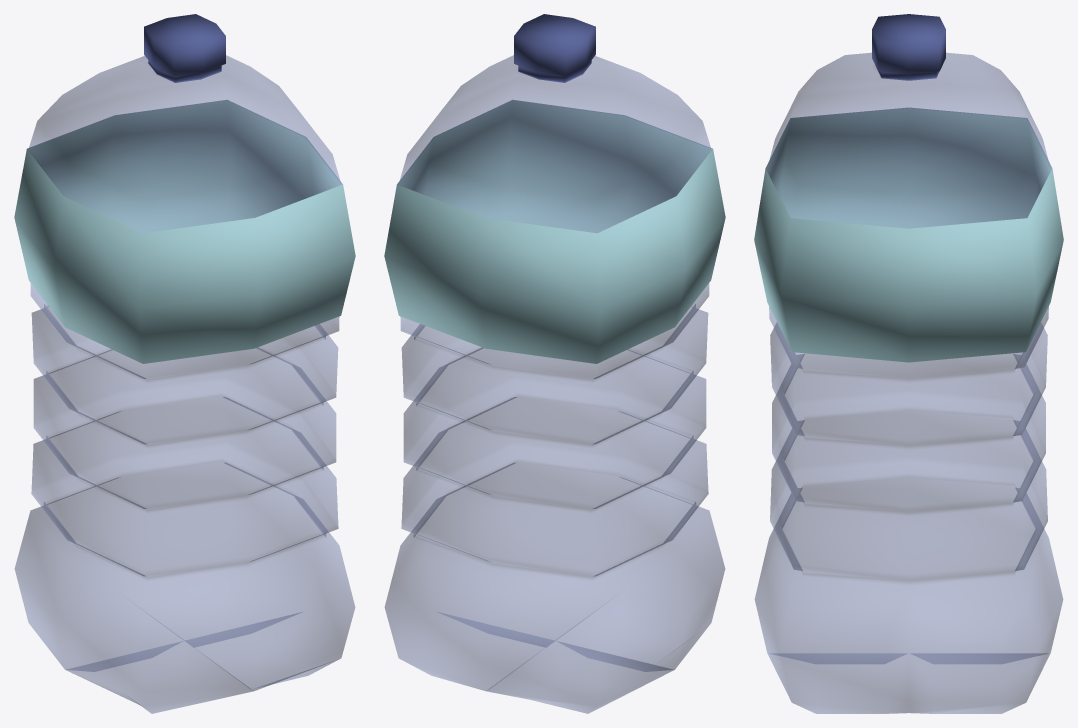
Rendered from bottle.glb.
The picture shows the model from 3 angles, left to right: view 1: azimuth 30°, elevation 25°; view 2: azimuth 150°, elevation 25°; view 3: azimuth 270°, elevation 25°; orthographic projection. The views are drawn at different scales.
Visible parts, largest first — view 1: big; view 2: big; view 3: big.
Part boxes in pixels (x1,y1,x2,y2): big: [14, 14, 355, 713]; big: [384, 14, 725, 713]; big: [754, 14, 1063, 713].
Size of the model in its own units: 2.04 by 4.69 by 2.04.
